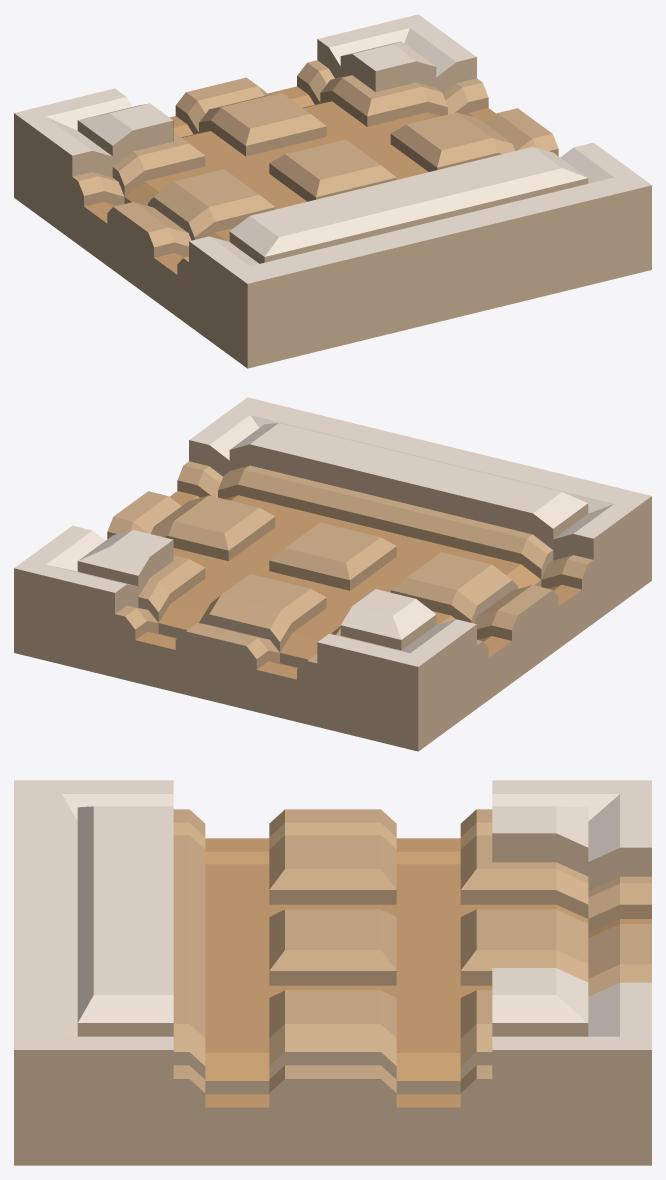
File: Puzzle_Track_Button_TJoint.fbx
The picture shows the model from 3 angles, top to bottom: view 1: azimuth 30°, elevation 25°; view 2: azimuth 150°, elevation 25°; view 3: azimuth 270°, elevation 25°; orthographic projection. The views are drawn at different scales.
Parts seen in each view (by area): view 1: Sandstone_Trim.Sandstone_Trim.Sandstone_Trim.Sandstone_Trim. (×2), Sandstone_4.Sandstone_4.Sandstone_4.Sandstone_4.Sandstone_4. (×2), Sandstone_Floor.Sandstone_Floor.Sandstone_Floor.Sandstone_Fl (×2), Sandstone_5.Sandstone_5.Sandstone_5.Sandstone_5.Sandstone_5. (×2); view 2: Sandstone_Trim.Sandstone_Trim.Sandstone_Trim.Sandstone_Trim. (×2), Sandstone_4.Sandstone_4.Sandstone_4.Sandstone_4.Sandstone_4. (×2), Sandstone_Floor.Sandstone_Floor.Sandstone_Floor.Sandstone_Fl (×2), Sandstone_5.Sandstone_5.Sandstone_5.Sandstone_5.Sandstone_5. (×2); view 3: Sandstone_Trim.Sandstone_Trim.Sandstone_Trim.Sandstone_Trim. (×2), Sandstone_4.Sandstone_4.Sandstone_4.Sandstone_4.Sandstone_4. (×2), Sandstone_Floor.Sandstone_Floor.Sandstone_Floor.Sandstone_Fl (×2), Sandstone_5.Sandstone_5.Sandstone_5.Sandstone_5.Sandstone_5. (×2).
Part boxes in pixels (box(x1,y1,x2,y2)): Sandstone_Trim.Sandstone_Trim.Sandstone_Trim.Sandstone_Trim. (×2): box(14, 39, 651, 368); Sandstone_4.Sandstone_4.Sandstone_4.Sandstone_4.Sandstone_4. (×2): box(73, 60, 558, 261); Sandstone_Floor.Sandstone_Floor.Sandstone_Floor.Sandstone_Fl (×2): box(14, 14, 651, 283); Sandstone_5.Sandstone_5.Sandstone_5.Sandstone_5.Sandstone_5. (×2): box(84, 86, 496, 274); Sandstone_Trim.Sandstone_Trim.Sandstone_Trim.Sandstone_Trim. (×2): box(14, 440, 651, 751); Sandstone_4.Sandstone_4.Sandstone_4.Sandstone_4.Sandstone_4. (×2): box(107, 461, 592, 669); Sandstone_Floor.Sandstone_Floor.Sandstone_Floor.Sandstone_Fl (×2): box(14, 397, 651, 666); Sandstone_5.Sandstone_5.Sandstone_5.Sandstone_5.Sandstone_5. (×2): box(135, 491, 581, 679); Sandstone_Trim.Sandstone_Trim.Sandstone_Trim.Sandstone_Trim. (×2): box(14, 833, 651, 1165); Sandstone_4.Sandstone_4.Sandstone_4.Sandstone_4.Sandstone_4. (×2): box(173, 809, 651, 1092); Sandstone_Floor.Sandstone_Floor.Sandstone_Floor.Sandstone_Fl (×2): box(14, 780, 651, 1049); Sandstone_5.Sandstone_5.Sandstone_5.Sandstone_5.Sandstone_5. (×2): box(205, 838, 651, 1107).
Size of the model in its own units: 1 by 0.225 by 1.
